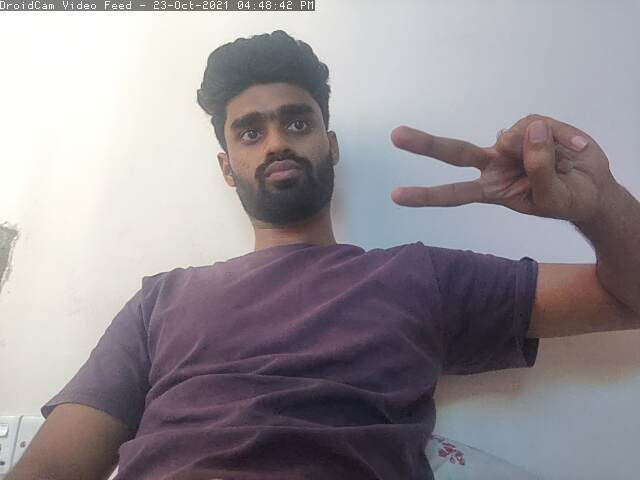Victory: (385, 109, 615, 222)
